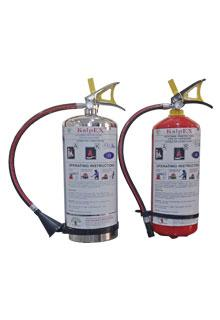Fire Extinguisher: (9, 60, 125, 257), (132, 73, 213, 251)
